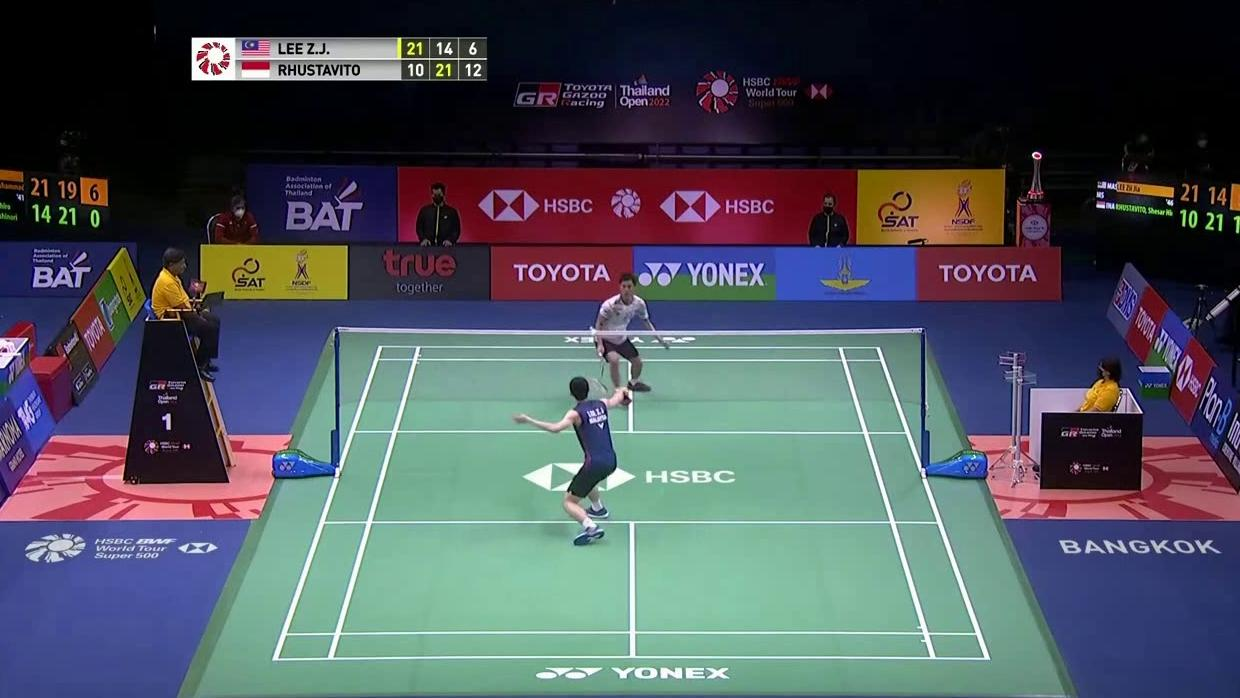racket: (588, 378, 626, 398), (597, 350, 609, 378)
shuttle: (588, 325, 598, 336)
